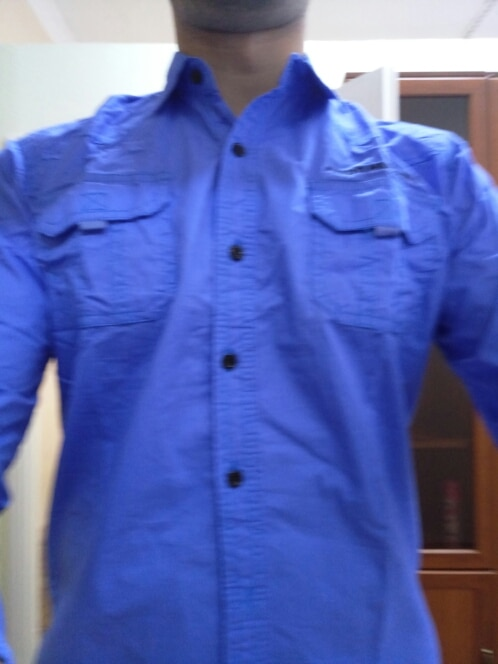shirts: (13, 51, 497, 656)
